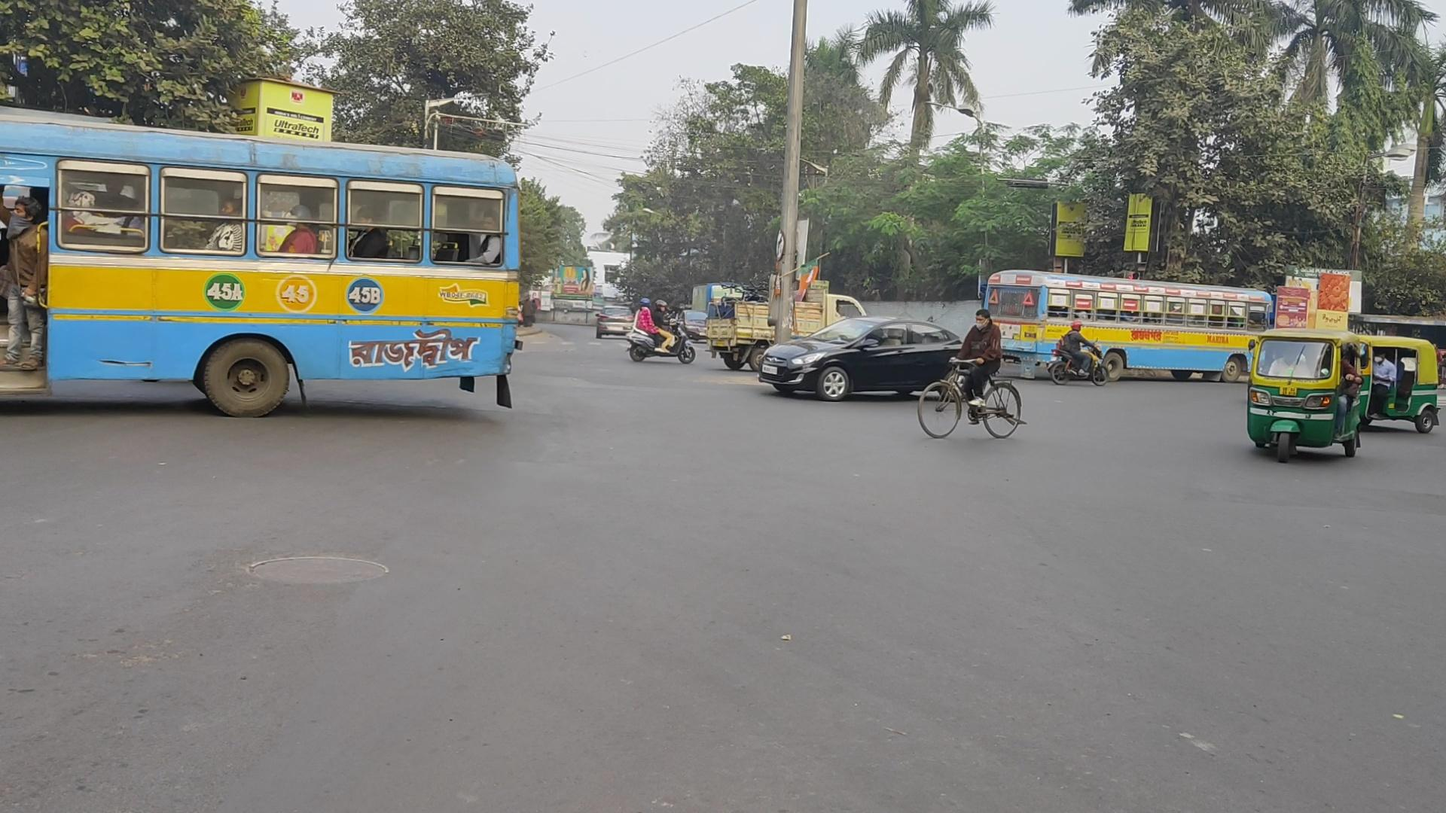Auto: (1246, 327, 1362, 463), (1356, 333, 1441, 434)
Bus: (1, 108, 521, 419), (984, 269, 1272, 383)
bike: (917, 309, 1028, 439), (706, 288, 868, 373), (626, 298, 696, 365), (1048, 321, 1109, 387)
car: (758, 317, 979, 401), (596, 305, 636, 340)
